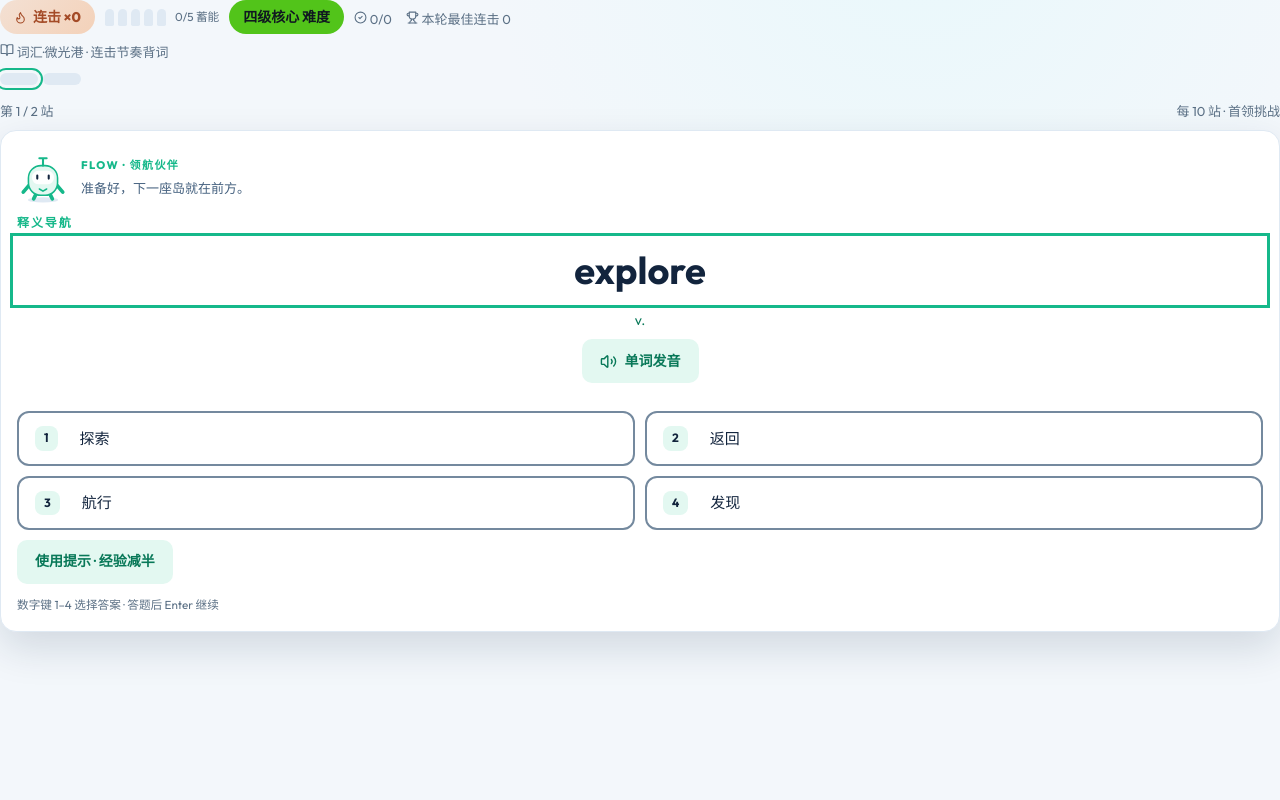
Test: real vocabulary mission › shows accurate round results and newly unlocked rewards after the configured stop count
The image size is (1280, 800).
Click the button "1 探索". click: [95, 438]
box: [17,411,635,466]
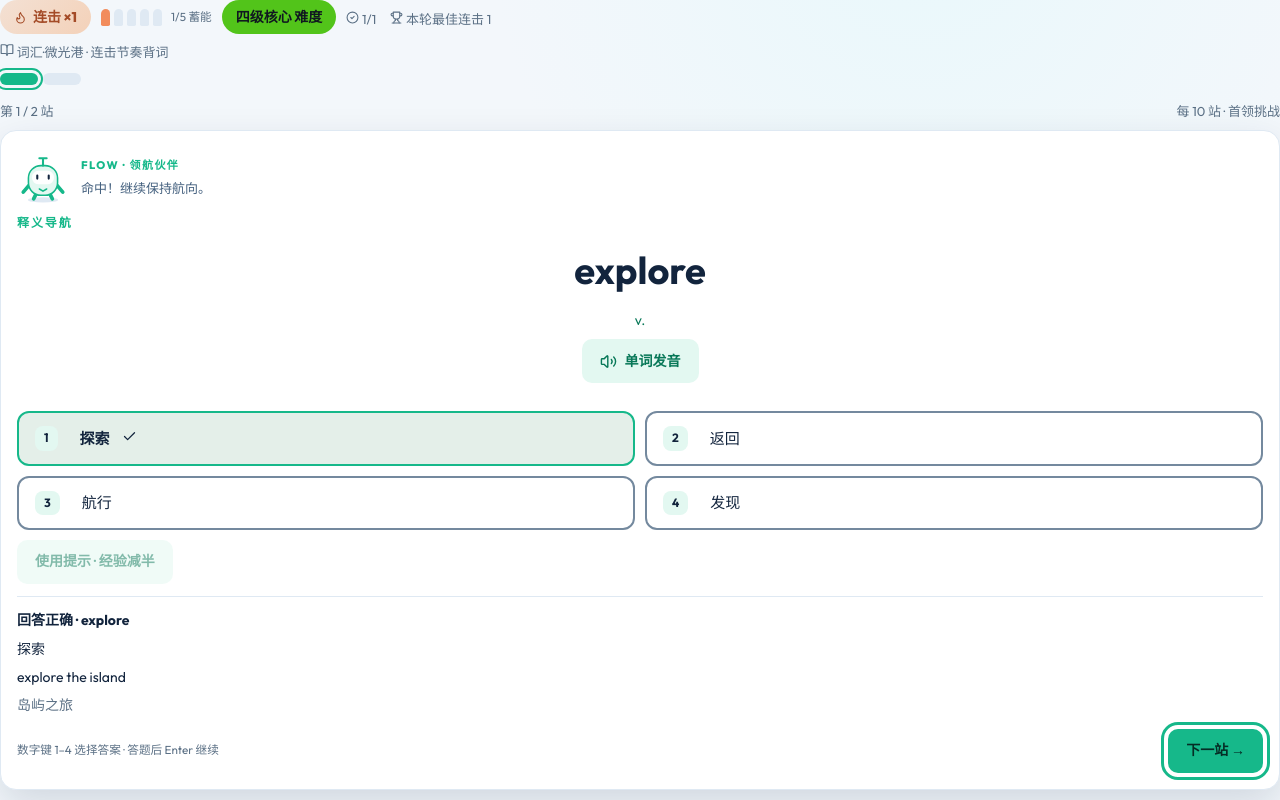
Result: the button "下一站 →" is enabled
Click the button "下一站 →". click: [1216, 751]
box: [1168,729,1263,773]
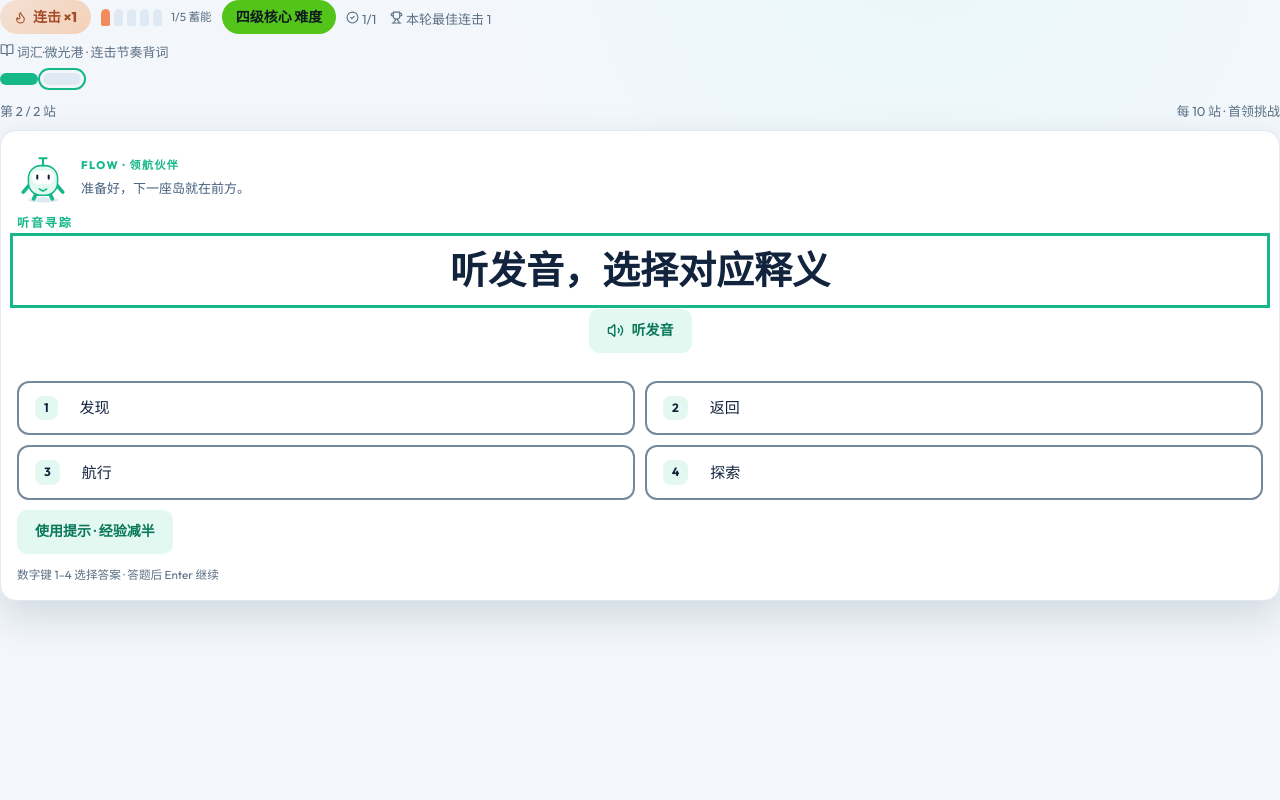
Click the button "1 发现". click: [95, 408]
box: [17,381,635,435]
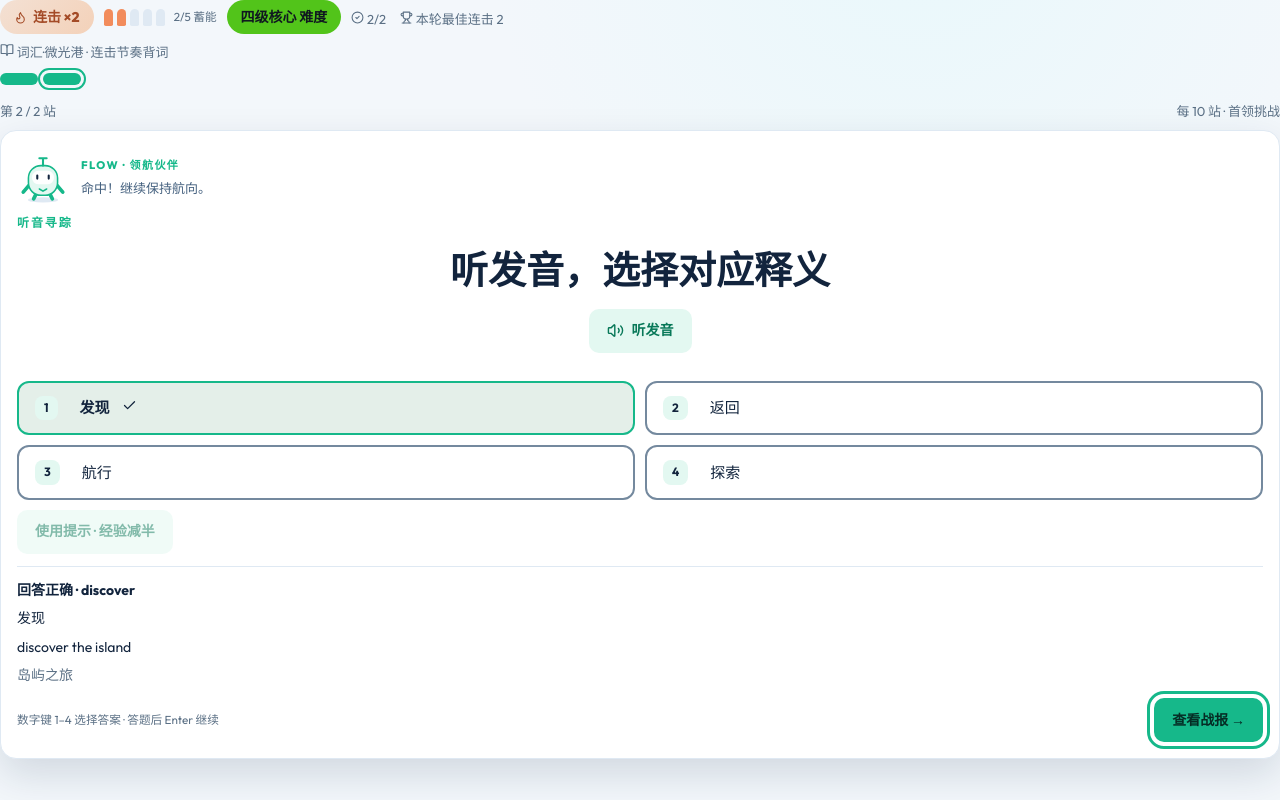
Result: the button "查看战报 →" is enabled
Click the button "查看战报 →". click: [1209, 720]
box: [1154,698,1263,742]
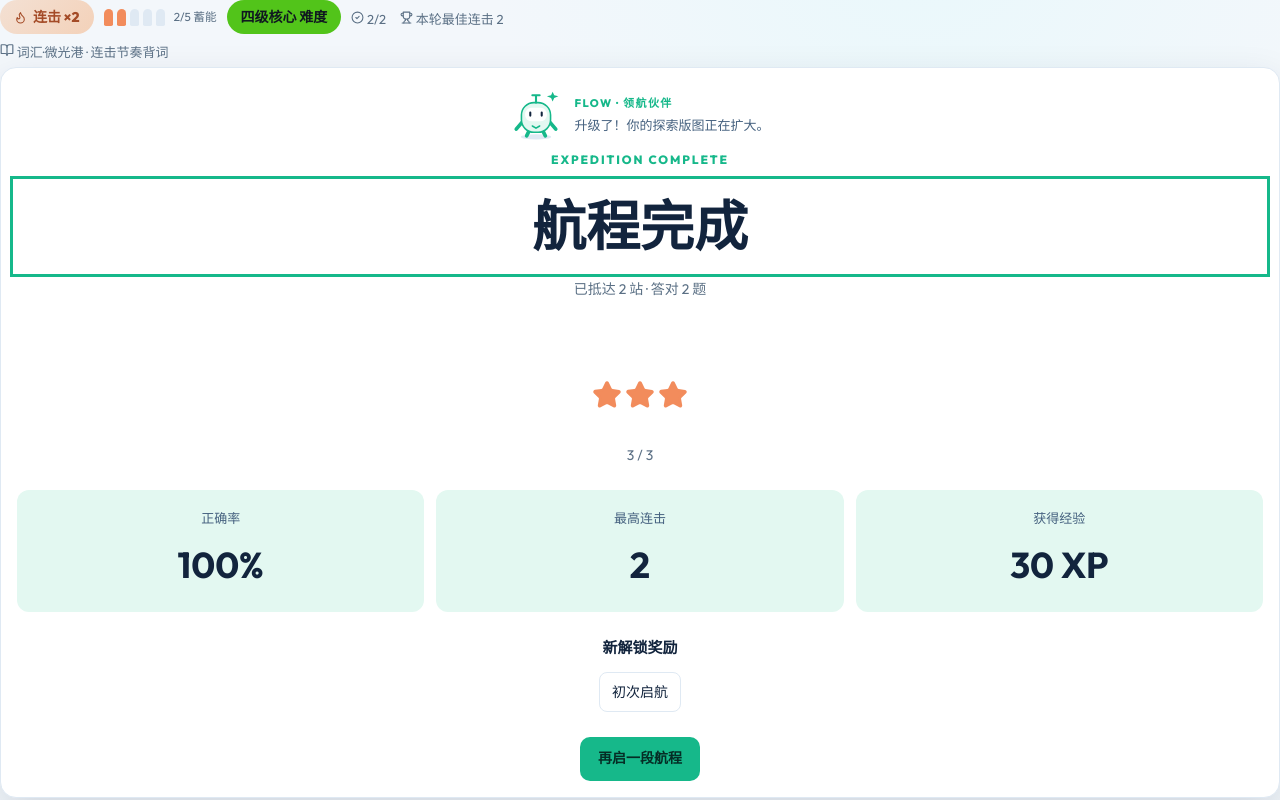
Result: the text named "本轮最高连击" reads "2" at [630,542,650,587]
Result: the heading "航程完成" is shown at [532,192,748,260]
Result: the text named "正确率" reads "100%" at [178,542,264,587]
